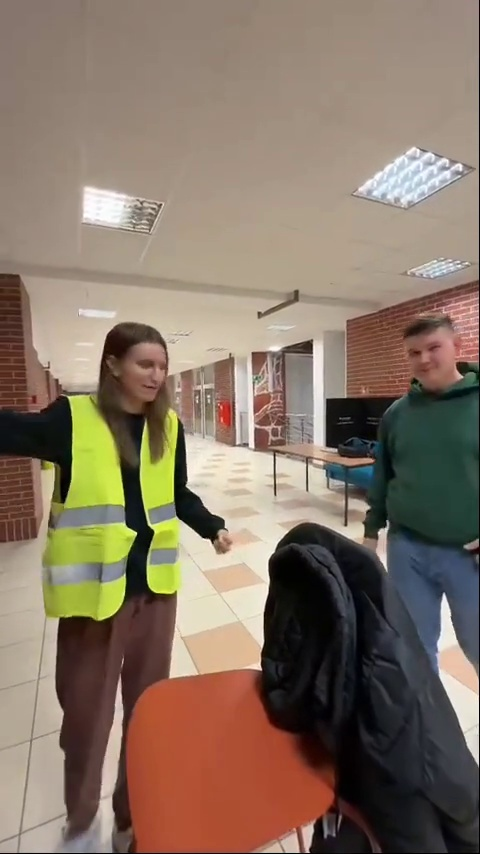no vest: (354, 309, 480, 669)
vest: (32, 316, 238, 837)
